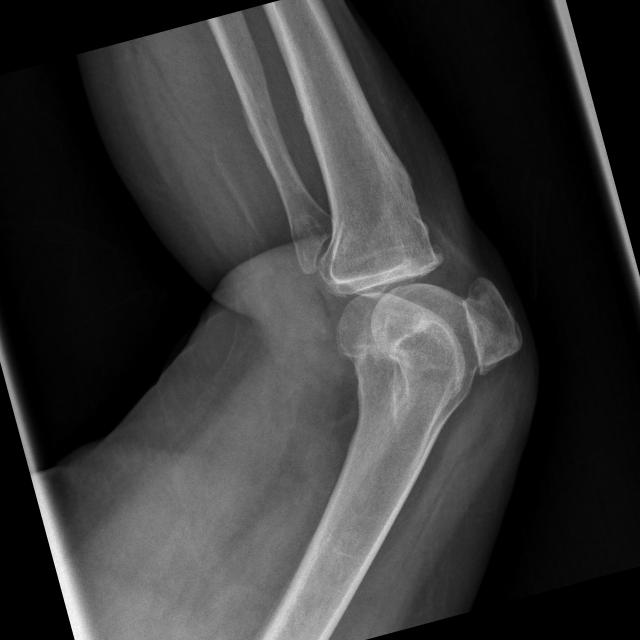Knee: (312, 208, 530, 414)
